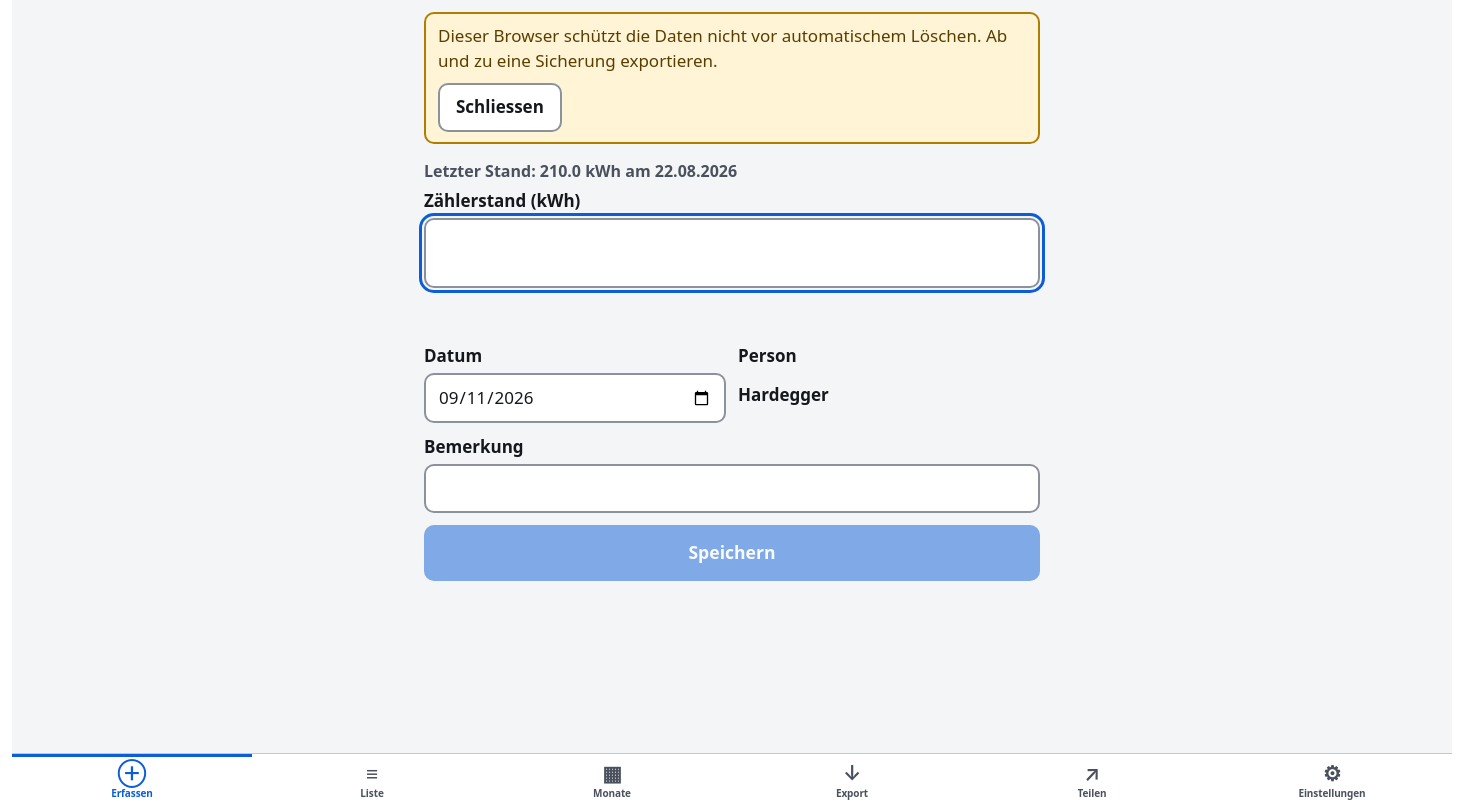
Test: the reading list (FR-4) › lists readings newest first (FR-4.1)
Step 1. Click the button "≡ Liste" → (372, 782), box [252,754,492,809]
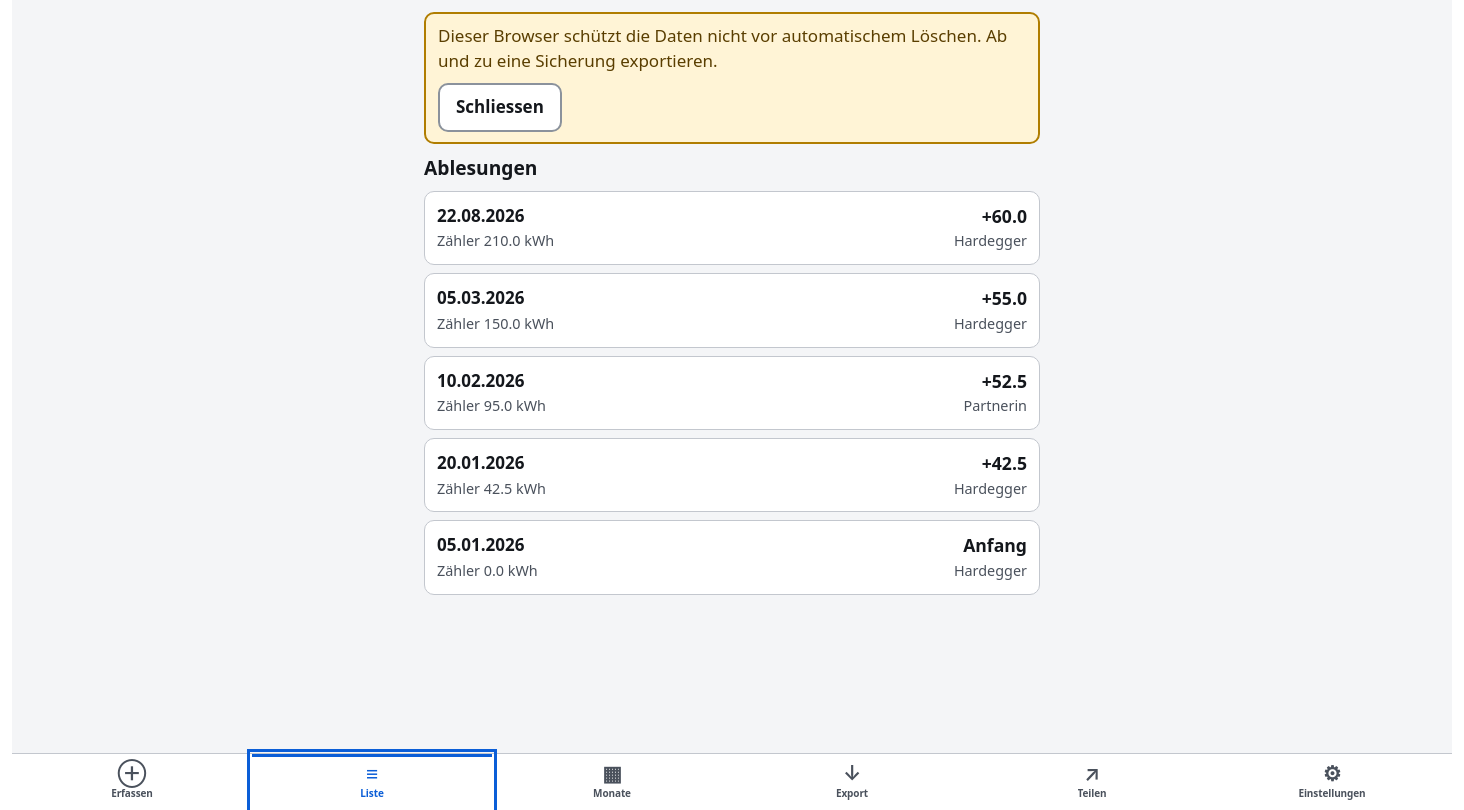
Check: the text "05.01.2026" is shown, box [437,534,524,556]
